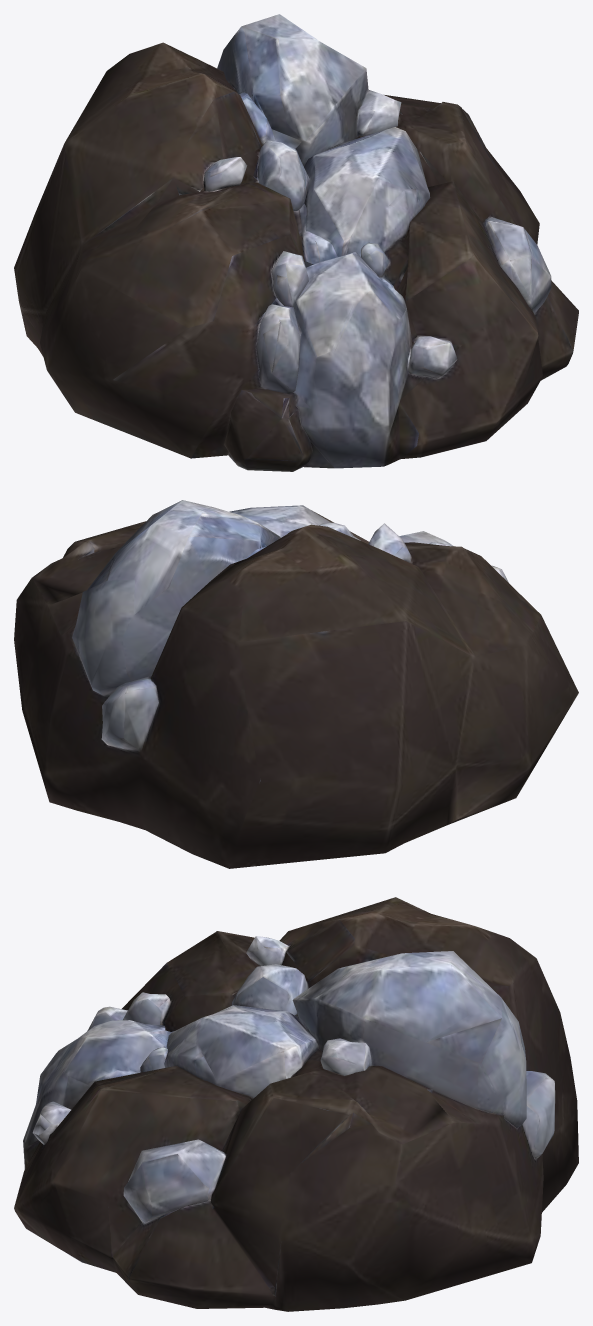
The model's file is filon_argent.glb.
The picture shows the model from 3 angles, top to bottom: view 1: azimuth 30°, elevation 25°; view 2: azimuth 150°, elevation 25°; view 3: azimuth 270°, elevation 25°; orthographic projection.
Size of the model in its own units: 0.9268 by 0.4951 by 0.9443.
Materials: 1 (1 with a texture image).
